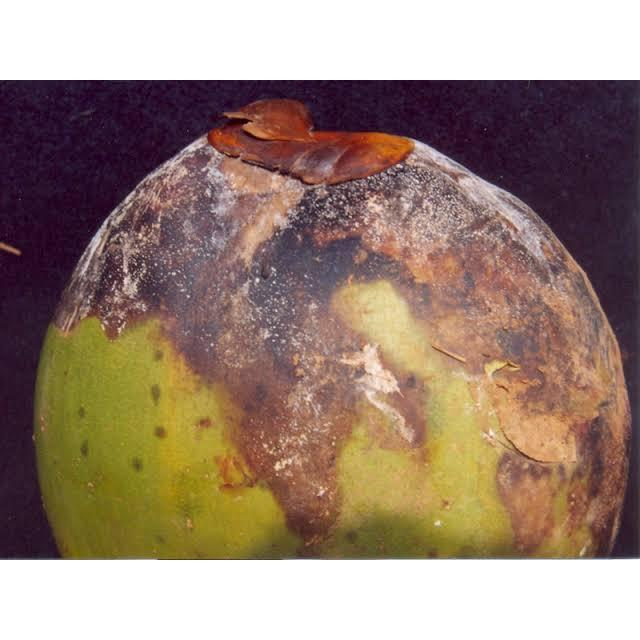damaged: (34, 100, 628, 556)
